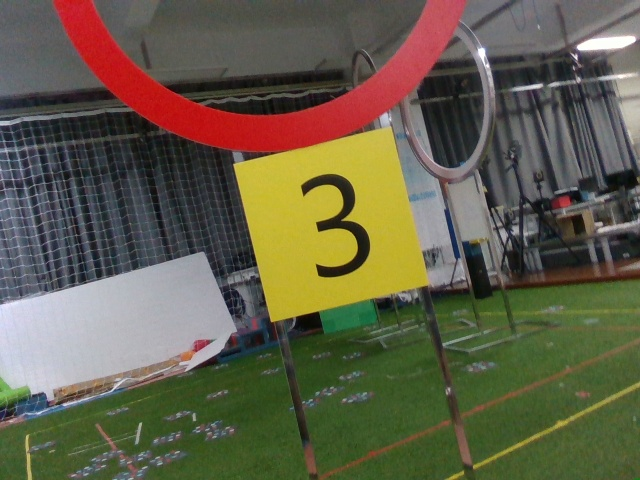target: (245, 150, 416, 301)
